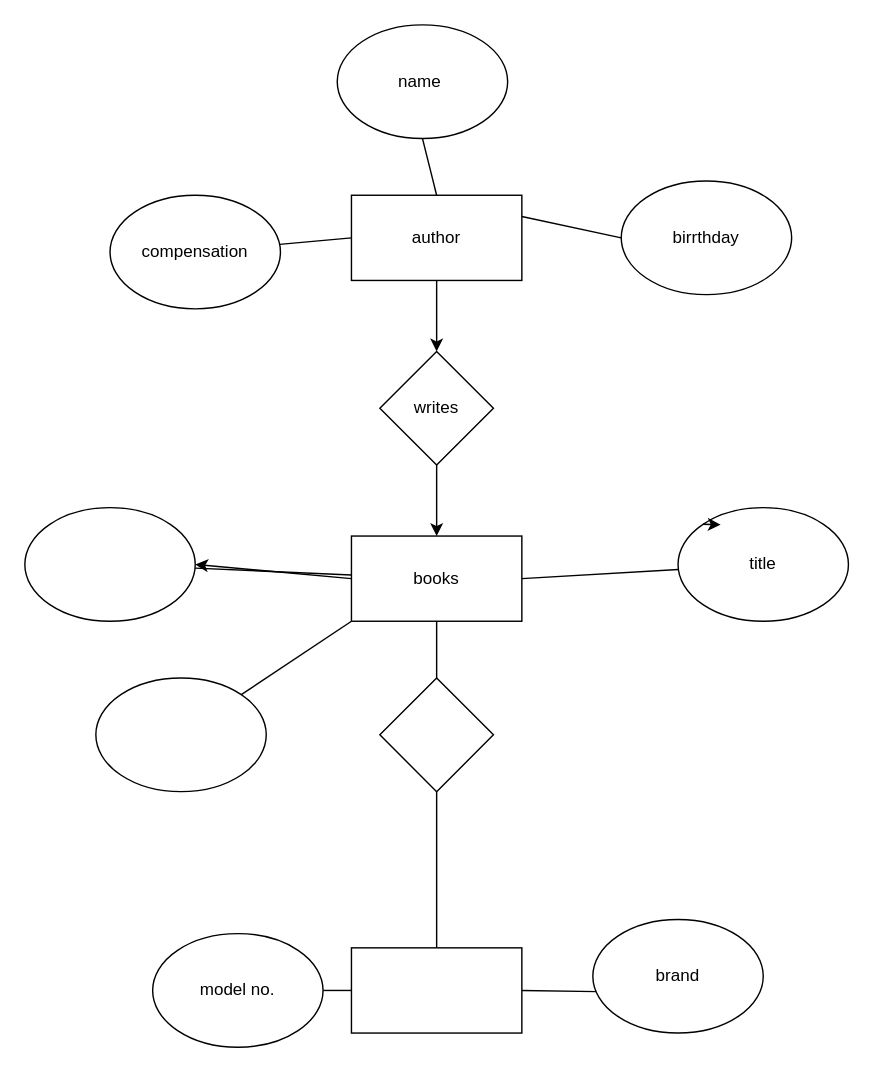
Image size: 873x1072. Some labels were removed from this diagram. The centre of each missing label's shape, as x and y in pixels:
"authored by" belongs at point (109, 563).
"genre" belongs at point (180, 734).
"printed by" belongs at point (435, 734).
"printer" belongs at point (436, 989).
